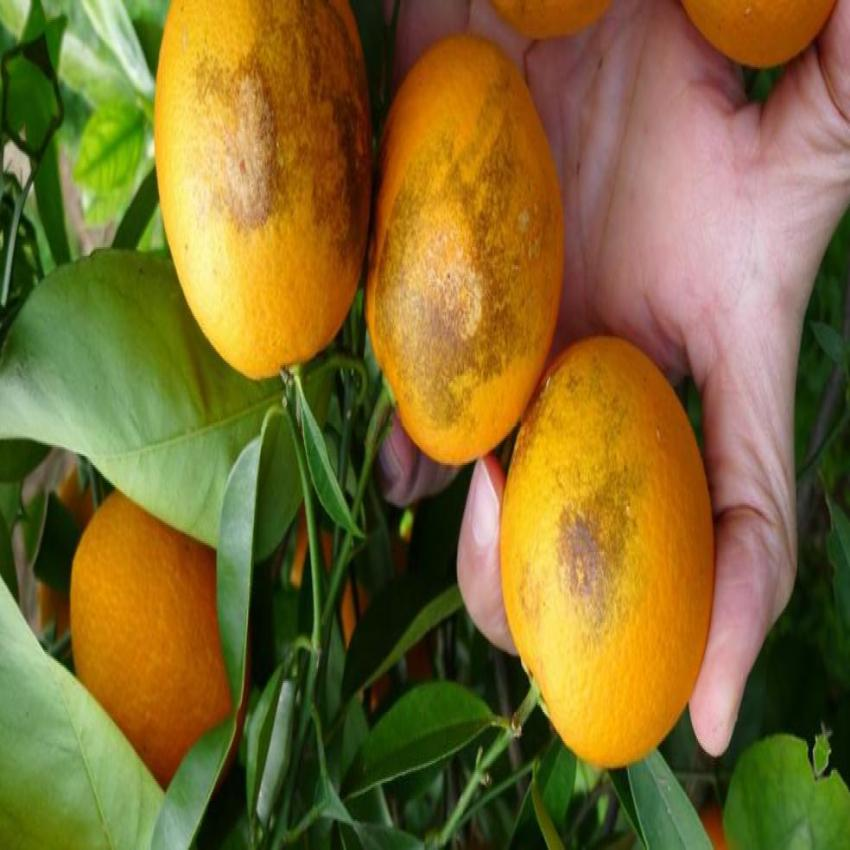Mal estado: (500, 309, 723, 803), (362, 30, 580, 479), (145, 0, 371, 400)
